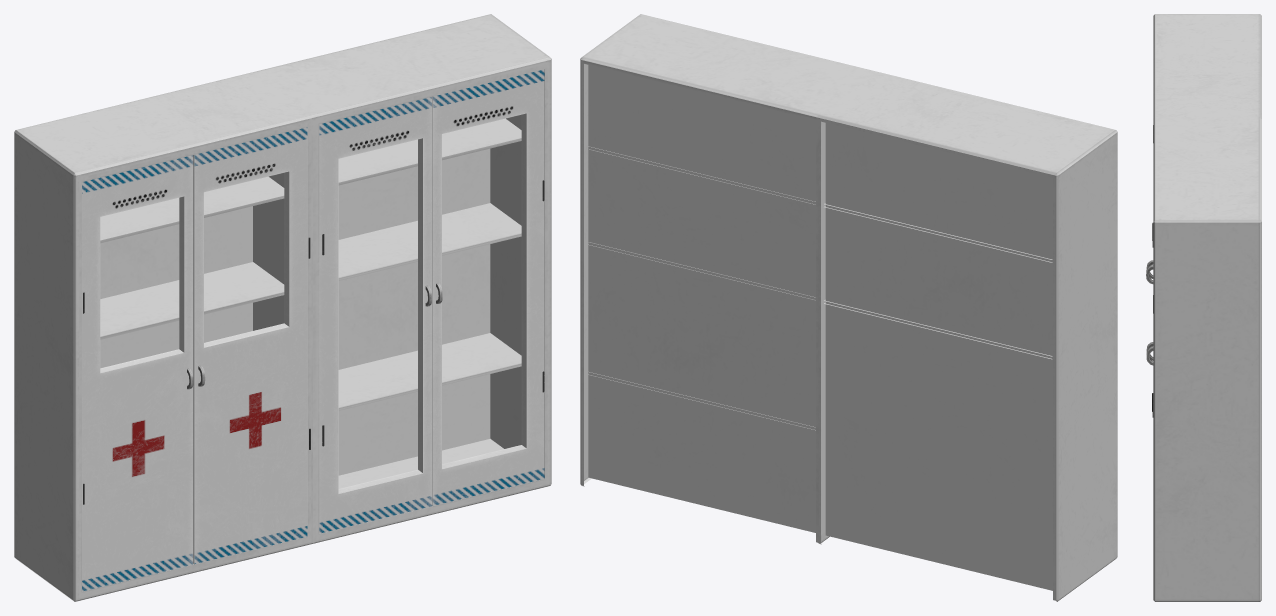
File: Gabinete_medicV2.fbx
The picture shows the model from 3 angles, left to right: view 1: azimuth 30°, elevation 25°; view 2: azimuth 150°, elevation 25°; view 3: azimuth 270°, elevation 25°; orthographic projection. The views are drawn at different scales.
Parts seen in each view (by area): view 1: repisa1_izq; view 2: repisa1_izq; view 3: repisa1_izq.
Boxes of the visible parts, left/top/right/bottom form: repisa1_izq: left=14, top=14, right=551, bottom=601; repisa1_izq: left=580, top=14, right=1117, bottom=601; repisa1_izq: left=1146, top=14, right=1261, bottom=601.
Size of the model in its own units: 272 by 233 by 64.04.
3 materials, 3 textured.
